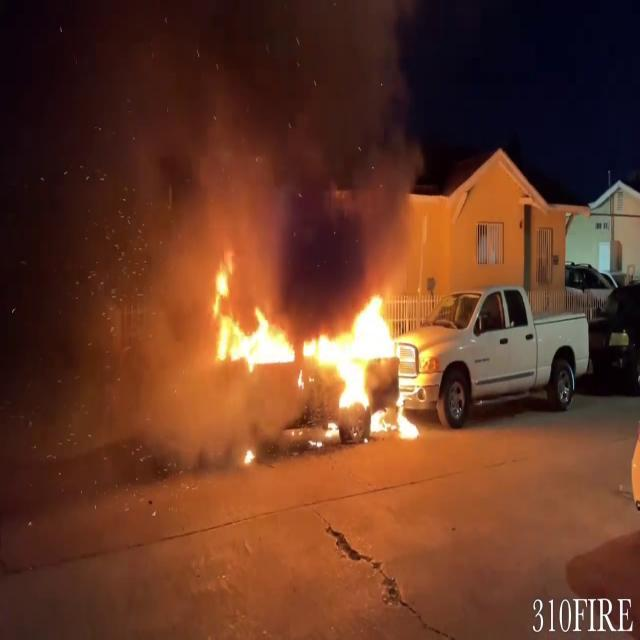Fire: (204, 280, 424, 438)
Smoke: (72, 11, 278, 312), (271, 0, 422, 296)
